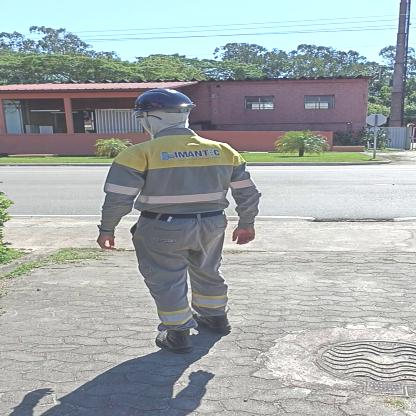Balaclava: (135, 109, 189, 135)
Capacete: (129, 85, 193, 109)
